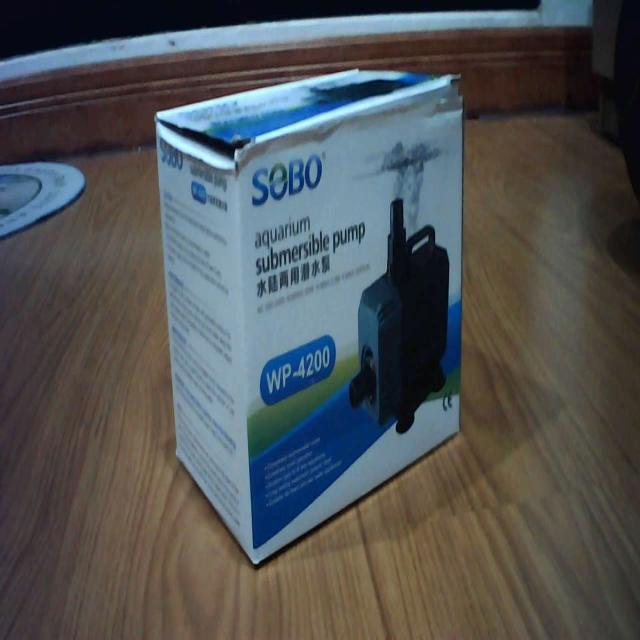SOBO_WP_4200: (142, 50, 470, 572)
